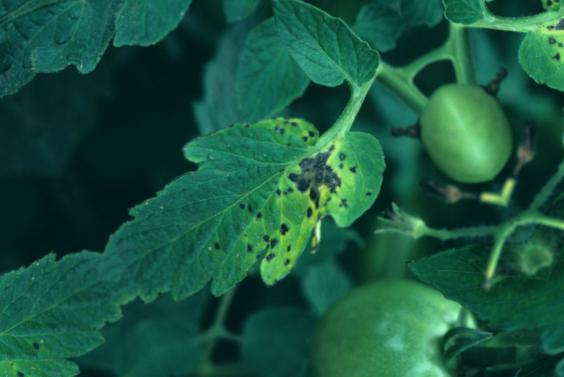Tomato Early blight leaf: (91, 74, 412, 339)
